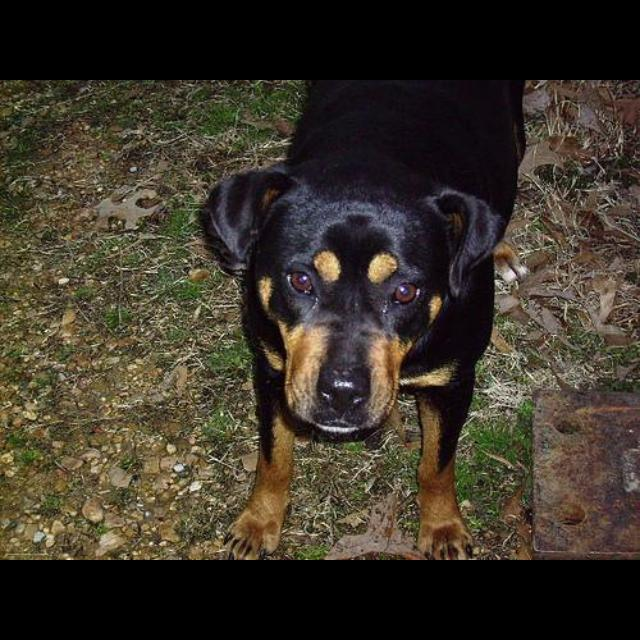rottweiler: (201, 81, 531, 559)
